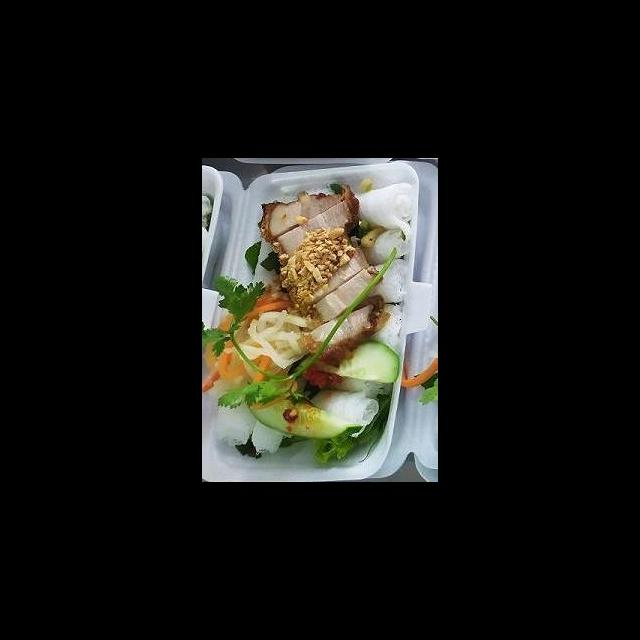banh hoi: (352, 179, 419, 236), (304, 388, 381, 433), (213, 392, 258, 449), (364, 256, 412, 306), (365, 300, 406, 353), (362, 229, 412, 267)
banh hoi heo quay: (220, 173, 431, 480)
dua chua: (203, 278, 310, 395)
thit heo quay: (269, 194, 362, 268), (298, 291, 387, 366), (254, 181, 356, 244), (287, 243, 372, 315), (301, 262, 385, 333)
